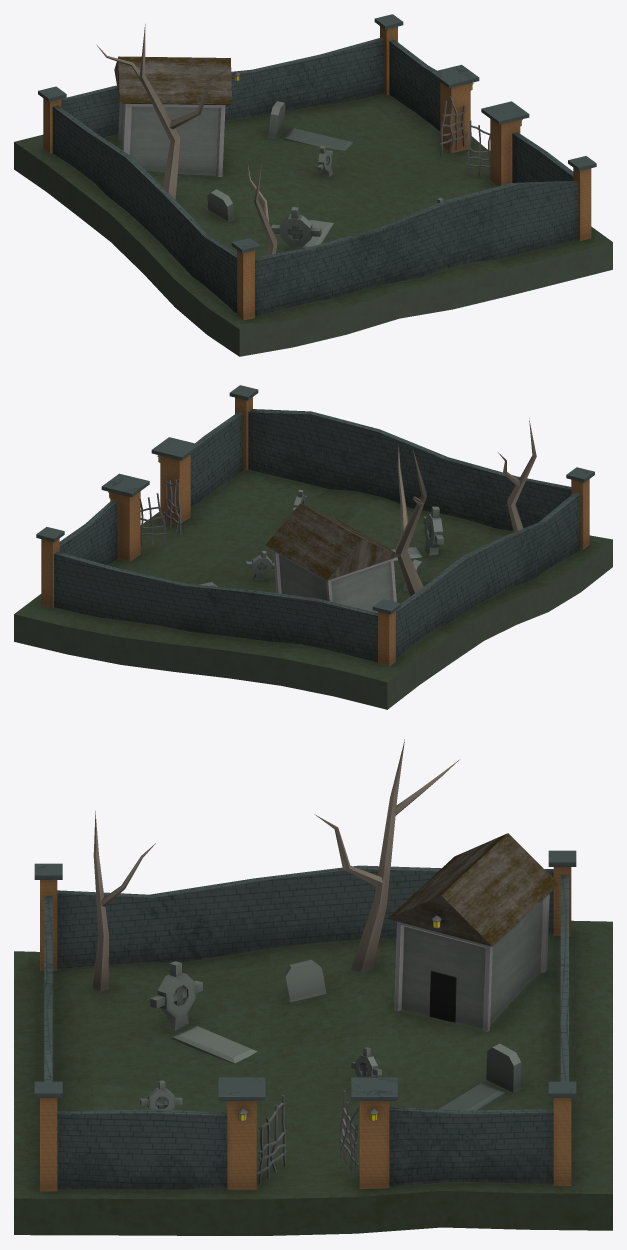
Rendered from cemetery.glb.
3 views of the same model, one above another, from view 1: azimuth 30°, elevation 25°; view 2: azimuth 150°, elevation 25°; view 3: azimuth 270°, elevation 25° (orthographic). The views are drawn at different scales.
Parts seen in each view (by area): view 1: Cementary_mesh; view 2: Cementary_mesh; view 3: Cementary_mesh.
Part boxes in pixels (box(x1,y1,x2,y2)): Cementary_mesh: box(14, 14, 612, 356); Cementary_mesh: box(14, 385, 612, 709); Cementary_mesh: box(14, 739, 612, 1235).
Bounding box in the file's own units: 22.86 × 12.82 × 23.91.
1 material, 1 textured.
